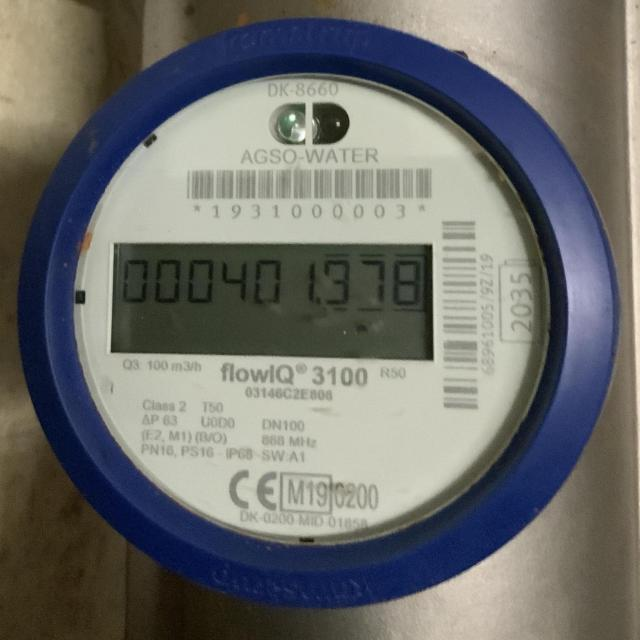gaz_meter: (69, 72, 561, 550)
indication: (112, 241, 434, 364)
